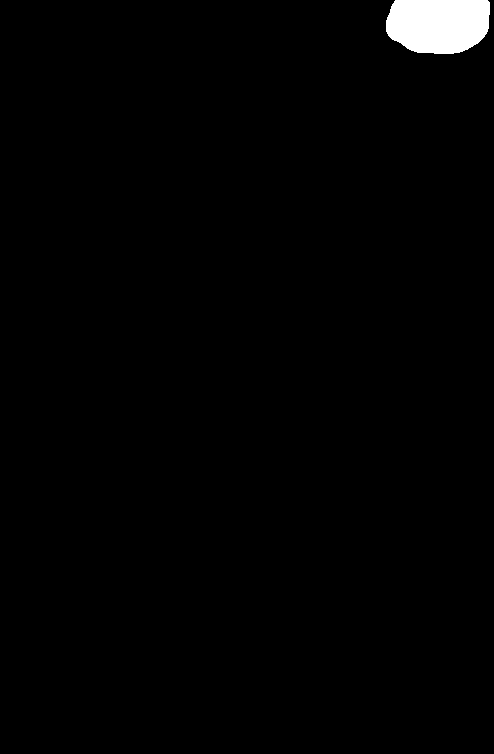veins_detect: (379, 1, 494, 62)
veins_seg: (386, 1, 489, 54)
